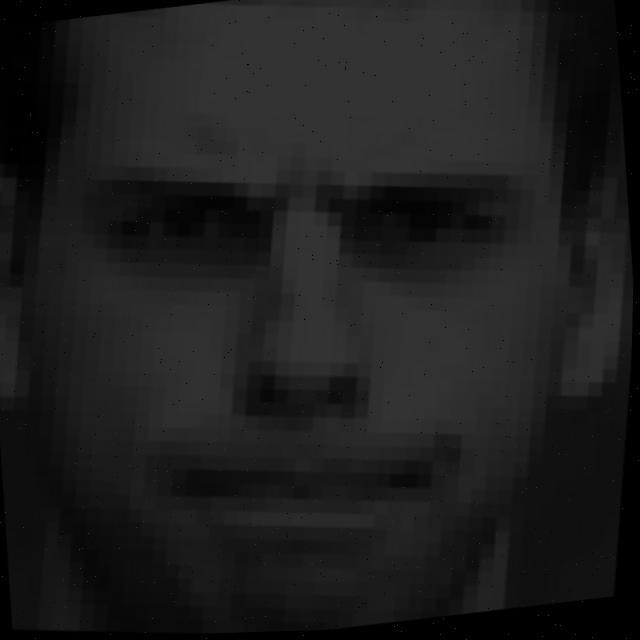Disgust: (53, 89, 626, 610)
